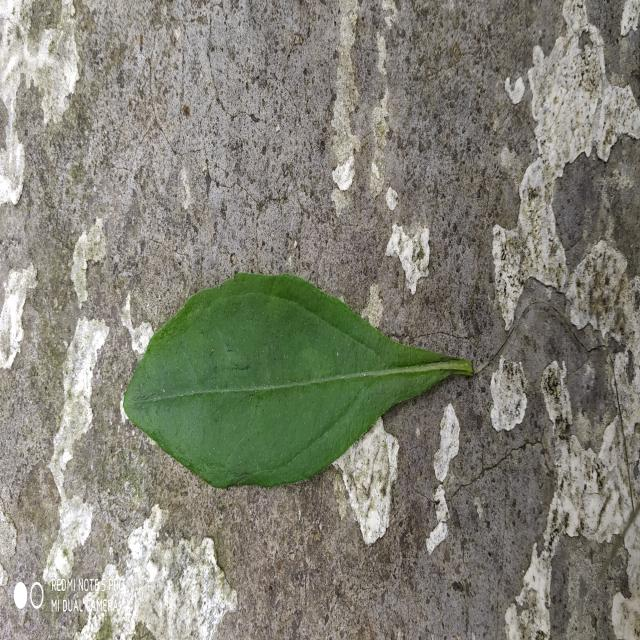bringaraja: (124, 272, 472, 488)
